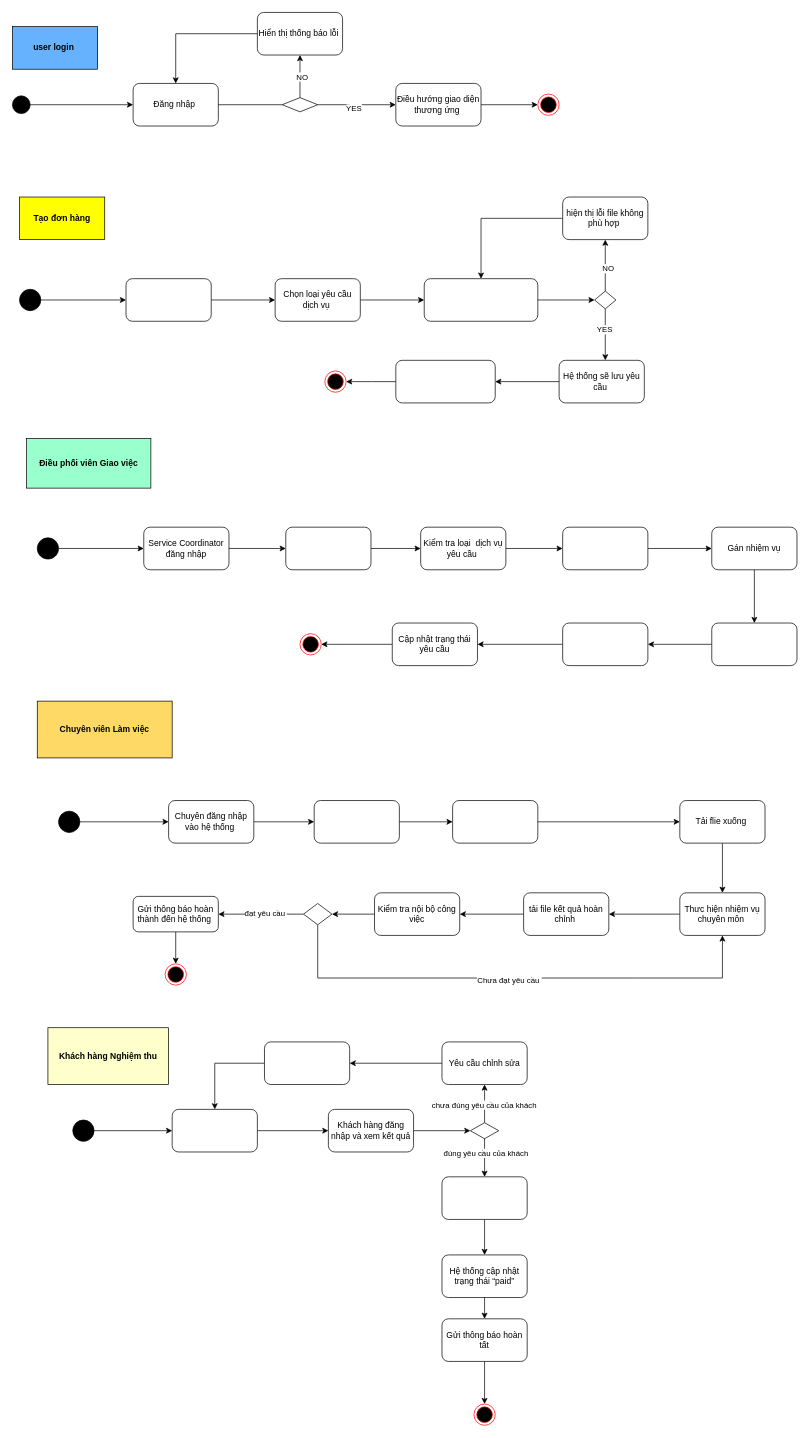
This 809x1438 diagram has some shape labels left out. The centre of each missing label's shape, as x and y in pixels:
Chọn chuyên viên phù hợp: the point at 605,548
ghi chú hoặc yêu cầu thêm, up file phù hợp: the point at 481,299
Hệ thống gửi thông báo cho chuyên viên: the point at 754,644
Hệ thống gửi thông báo kết quả đến khách hàng: the point at 214,1130
Hệ thống sẽ gửi đến Service Coordinator: the point at 445,381
Khách hàng đăng nhập vào hệ thống: the point at 168,299
Nhận thông báo nhiệm vụ: the point at 356,821
Quay lại Service Coordinator: the point at 307,1063
Thanh toán ngay: the point at 484,1197
Theo dõi tiến độ công việc: the point at 605,644
Xem chi tiết yêu cầu cần làm: the point at 495,821
Xem danh sách yêu cầu mới: the point at 328,548
